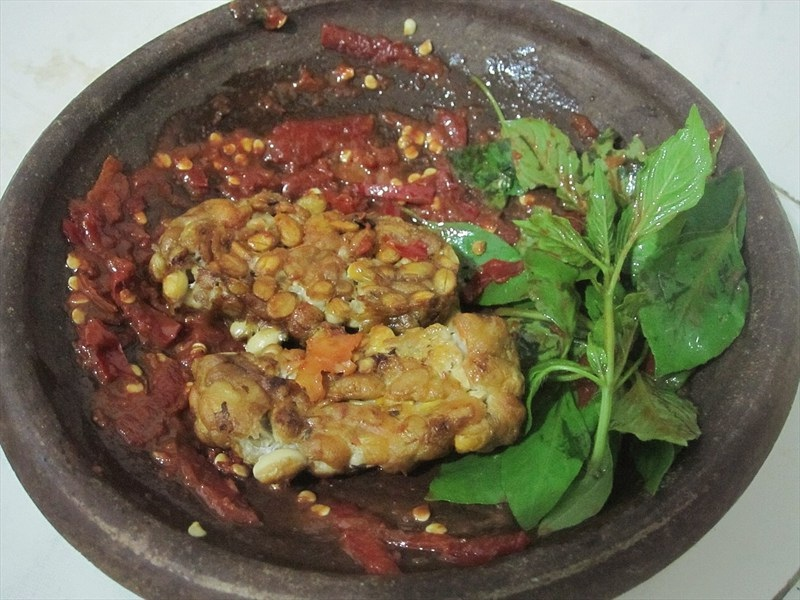Tempe Goreng: (127, 109, 658, 496)
